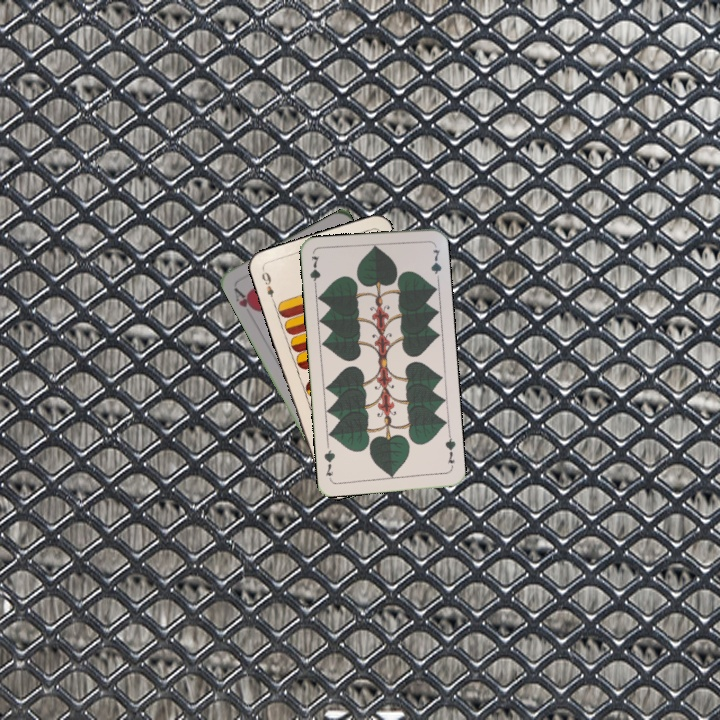E9: (258, 266, 278, 305)
G7: (441, 430, 458, 471), (306, 252, 323, 292)
HA: (230, 283, 260, 315)
